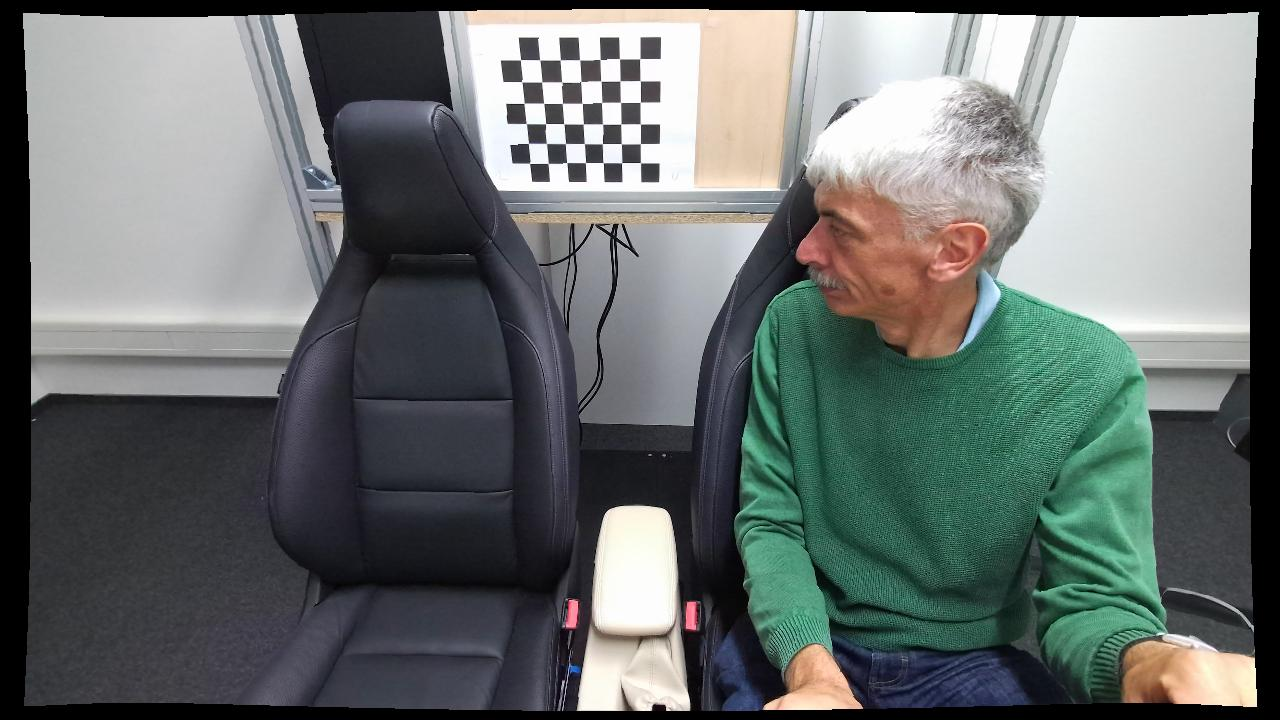Distracted: (703, 46, 1175, 691)
